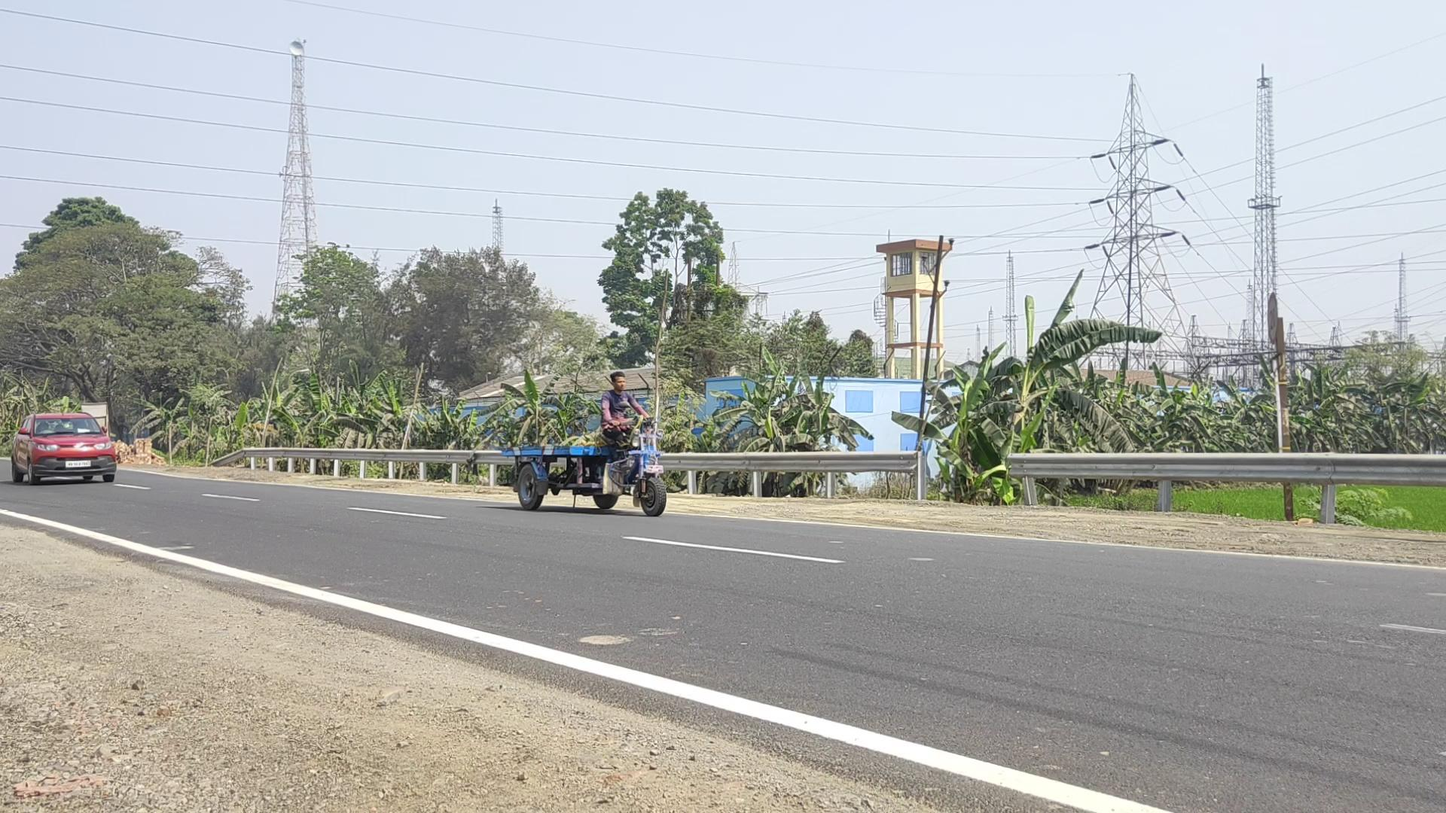car: (11, 412, 117, 486)
